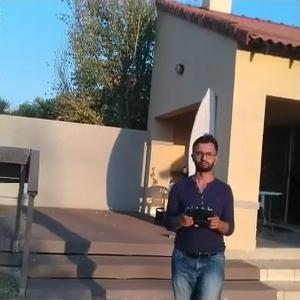follow: (159, 128, 236, 298)
